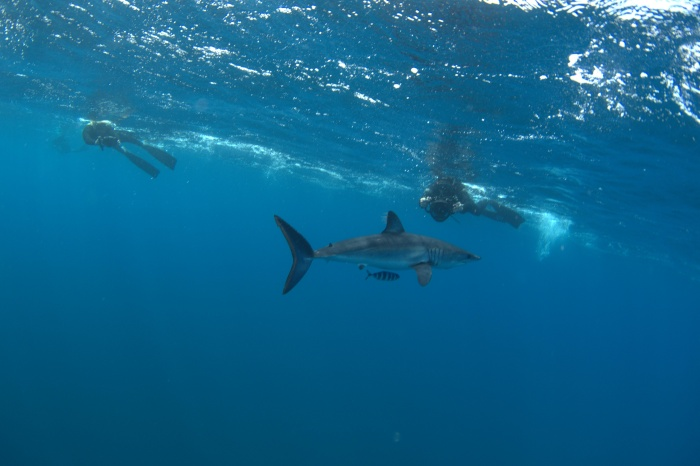Mako: (261, 205, 488, 313)
